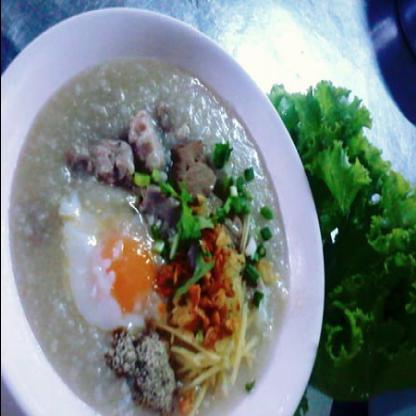Joke: (12, 61, 298, 414)
